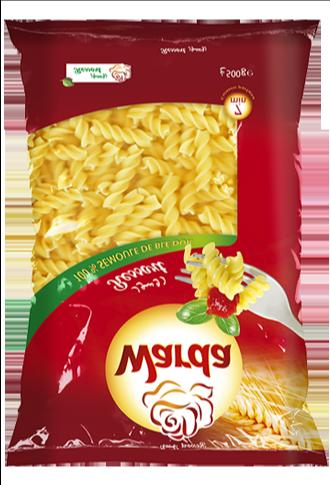Ressort: (5, 19, 325, 466)
